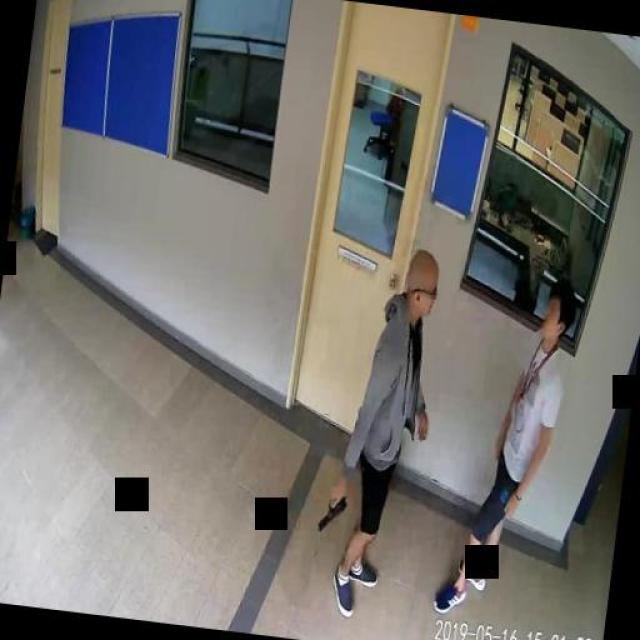gun: (316, 487, 346, 532)
